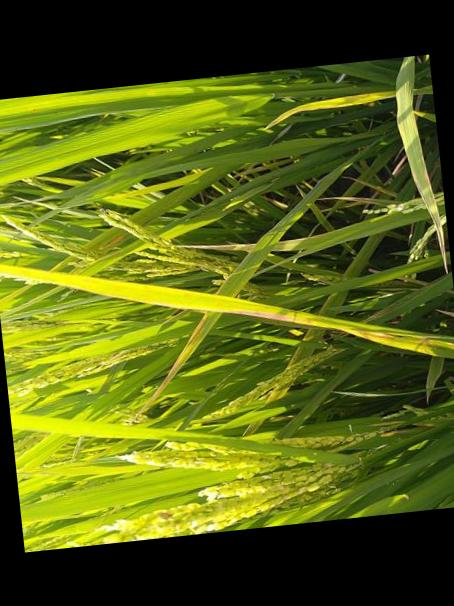Leaf Blight: (229, 312, 454, 349), (145, 311, 221, 407)
